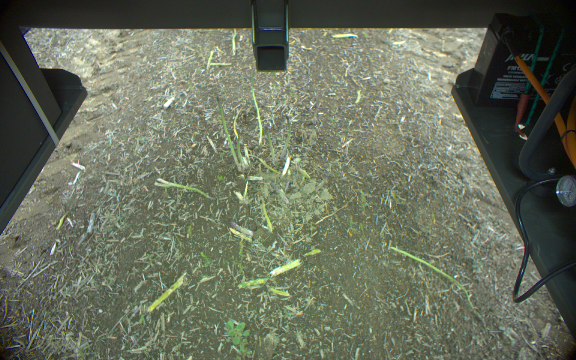aspa: (389, 245, 479, 320), (212, 95, 240, 172), (154, 176, 217, 203), (147, 272, 187, 312), (247, 86, 263, 146), (276, 114, 292, 161), (268, 181, 292, 210), (270, 258, 302, 278), (263, 124, 276, 168), (226, 219, 255, 237), (232, 136, 246, 173), (236, 274, 266, 289), (278, 154, 293, 179), (312, 170, 328, 192)
